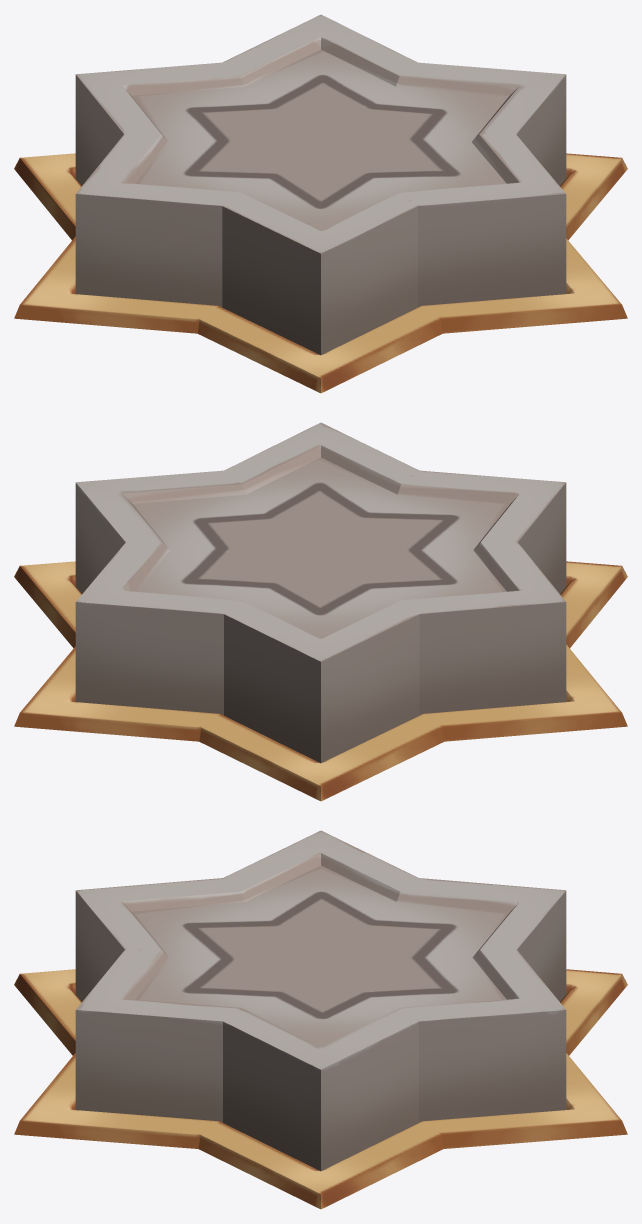
The model's file is gold_button.FBX.
3 renders of one model, top to bottom at view 1: azimuth 30°, elevation 25°; view 2: azimuth 150°, elevation 25°; view 3: azimuth 270°, elevation 25°, orthographic.
Visible parts, largest first — view 1: Object027; view 2: Object027; view 3: Object027.
Boxes of the visible parts, x1=… form: Object027: x1=14, y1=14, x2=627, y2=393; Object027: x1=14, y1=422, x2=627, y2=801; Object027: x1=14, y1=830, x2=627, y2=1209.
Size of the model in its own units: 349 by 59.52 by 302.
